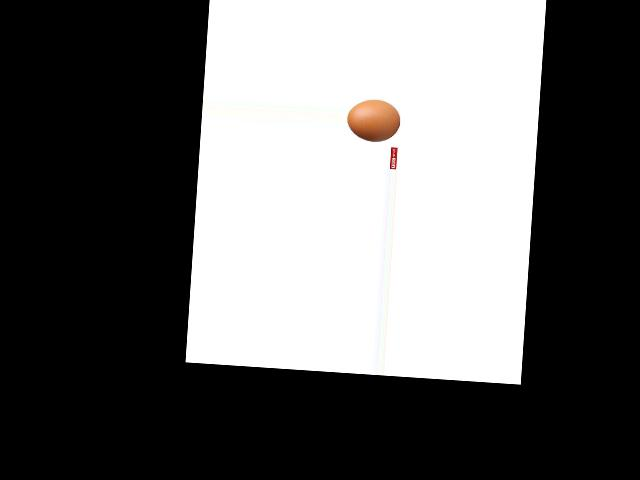egg: (346, 97, 401, 142)
